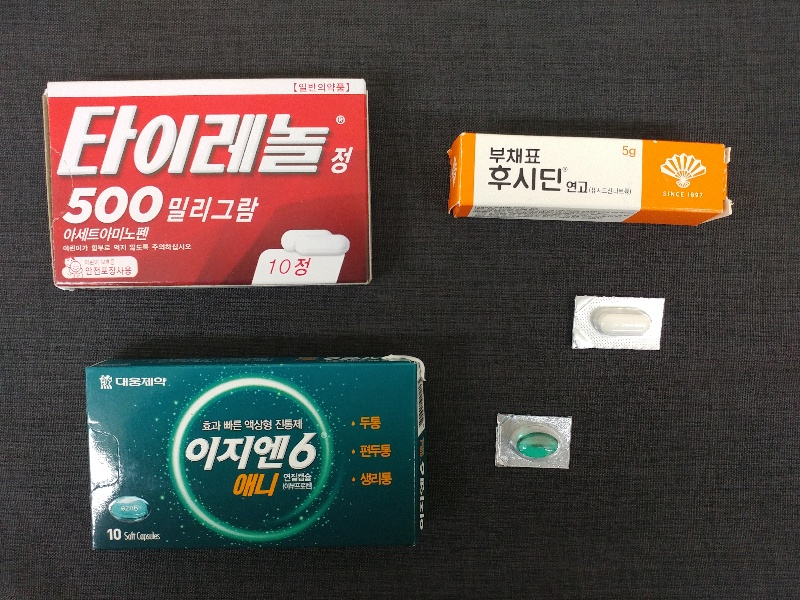ezn: (87, 363, 416, 546)
fucidin: (458, 130, 726, 211)
pill_ezn: (495, 413, 570, 468)
pill_tylenol: (573, 295, 663, 348)
tylenol: (44, 79, 373, 286)
